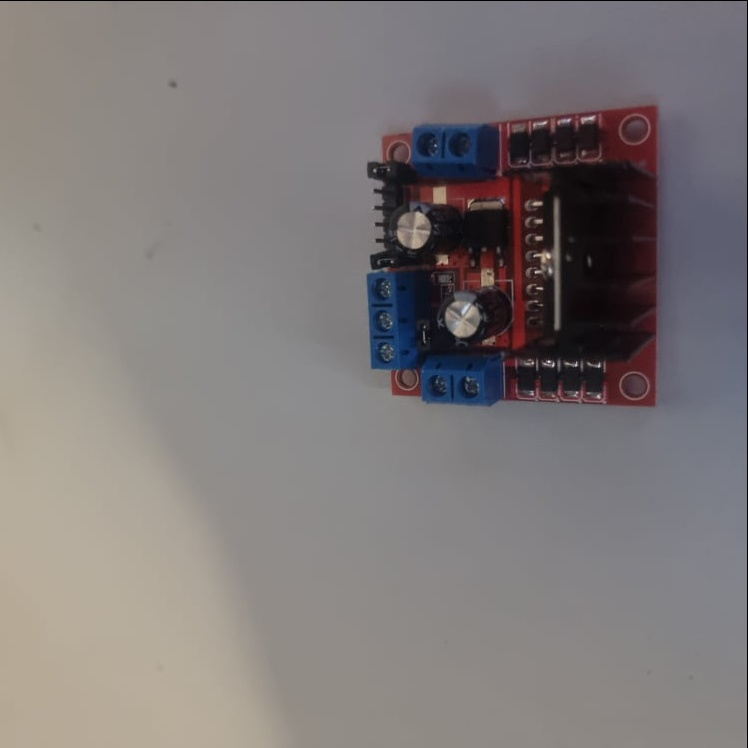MOTOR: (361, 103, 663, 403)
